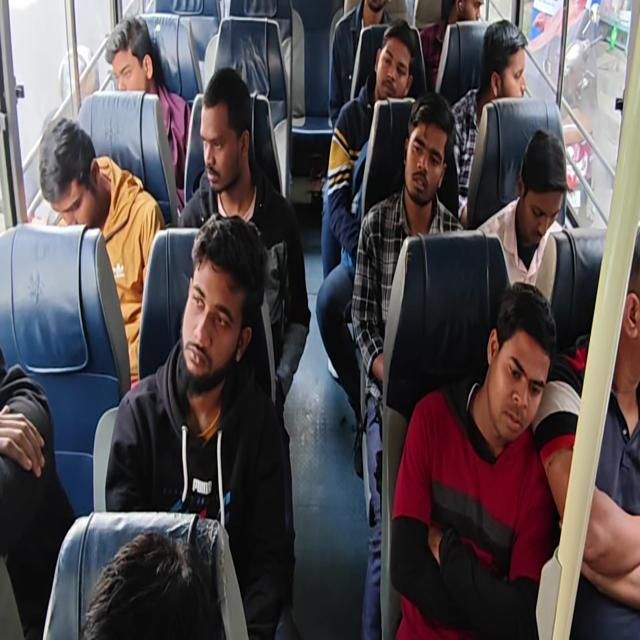person: (2, 2, 638, 638), (104, 212, 291, 638), (350, 90, 465, 638), (389, 280, 559, 638), (315, 18, 417, 474), (178, 66, 310, 413), (532, 224, 640, 638), (38, 116, 166, 386), (0, 345, 75, 638), (104, 15, 192, 203), (449, 19, 528, 225), (81, 530, 225, 638), (476, 126, 568, 289), (328, 0, 392, 128), (419, 0, 484, 92), (59, 44, 100, 108)
